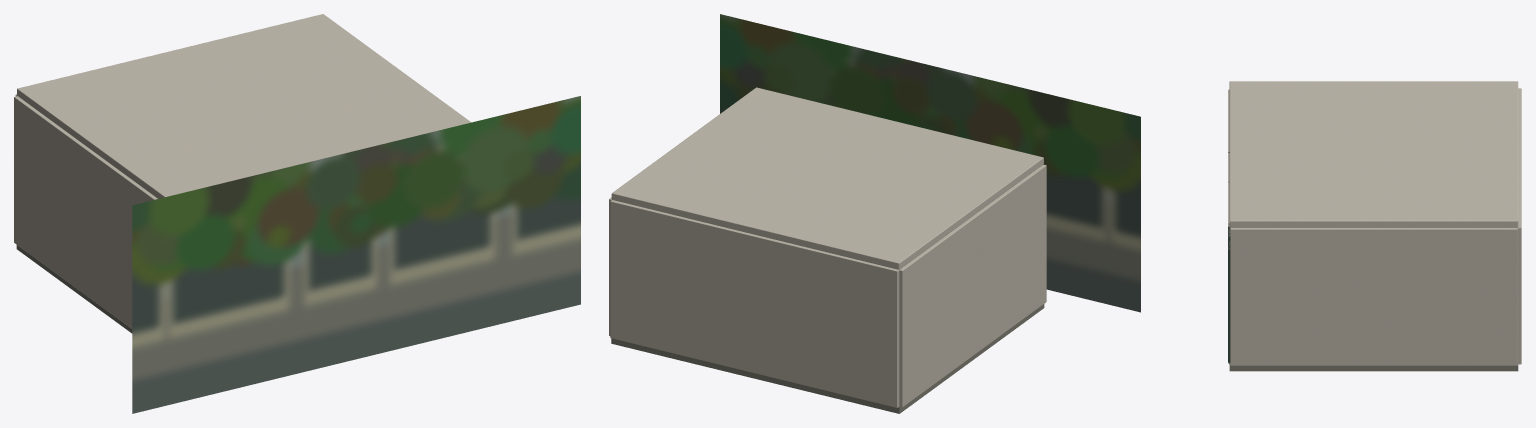
Rendered from LotteryShop_Interior.fbx.
3 renders of one model, left to right at view 1: azimuth 30°, elevation 25°; view 2: azimuth 150°, elevation 25°; view 3: azimuth 270°, elevation 25°, orthographic. The views are drawn at different scales.
Visible parts, largest first — view 1: Exterior_Blurred_Street, Ceiling, Wall_West, Floor_Substrate; view 2: Ceiling, Exterior_Blurred_Street, Wall_North, Wall_West, Floor_Substrate; view 3: Ceiling, Wall_East, Floor_Substrate, Wall_North, Front_Pier.003.
Part boxes in pixels (x1=…): Exterior_Blurred_Street: x1=132, y1=96, x2=580, y2=413; Ceiling: x1=17, y1=14, x2=471, y2=198; Wall_West: x1=14, y1=96, x2=157, y2=328; Floor_Substrate: x1=16, y1=245, x2=132, y2=333; Ceiling: x1=611, y1=87, x2=1043, y2=269; Exterior_Blurred_Street: x1=720, y1=14, x2=1140, y2=312; Wall_North: x1=610, y1=200, x2=899, y2=407; Wall_West: x1=899, y1=164, x2=1046, y2=407; Floor_Substrate: x1=611, y1=304, x2=1044, y2=413; Ceiling: x1=1229, y1=81, x2=1518, y2=227; Wall_East: x1=1230, y1=227, x2=1517, y2=365; Floor_Substrate: x1=1229, y1=363, x2=1518, y2=371; Wall_North: x1=1517, y1=88, x2=1521, y2=364; Front_Pier.003: x1=1228, y1=223, x2=1230, y2=362.
Bounding box in the file's own units: 9 × 4 × 6.54.
